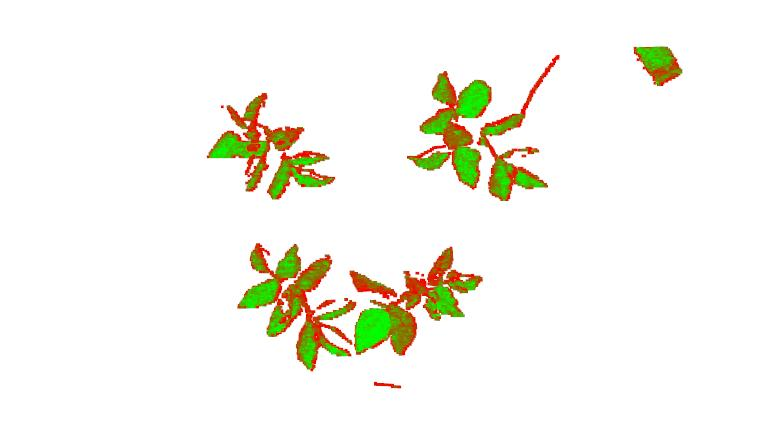mungbean: (414, 69, 547, 198), (347, 242, 482, 357), (210, 82, 339, 200), (240, 235, 356, 366)
